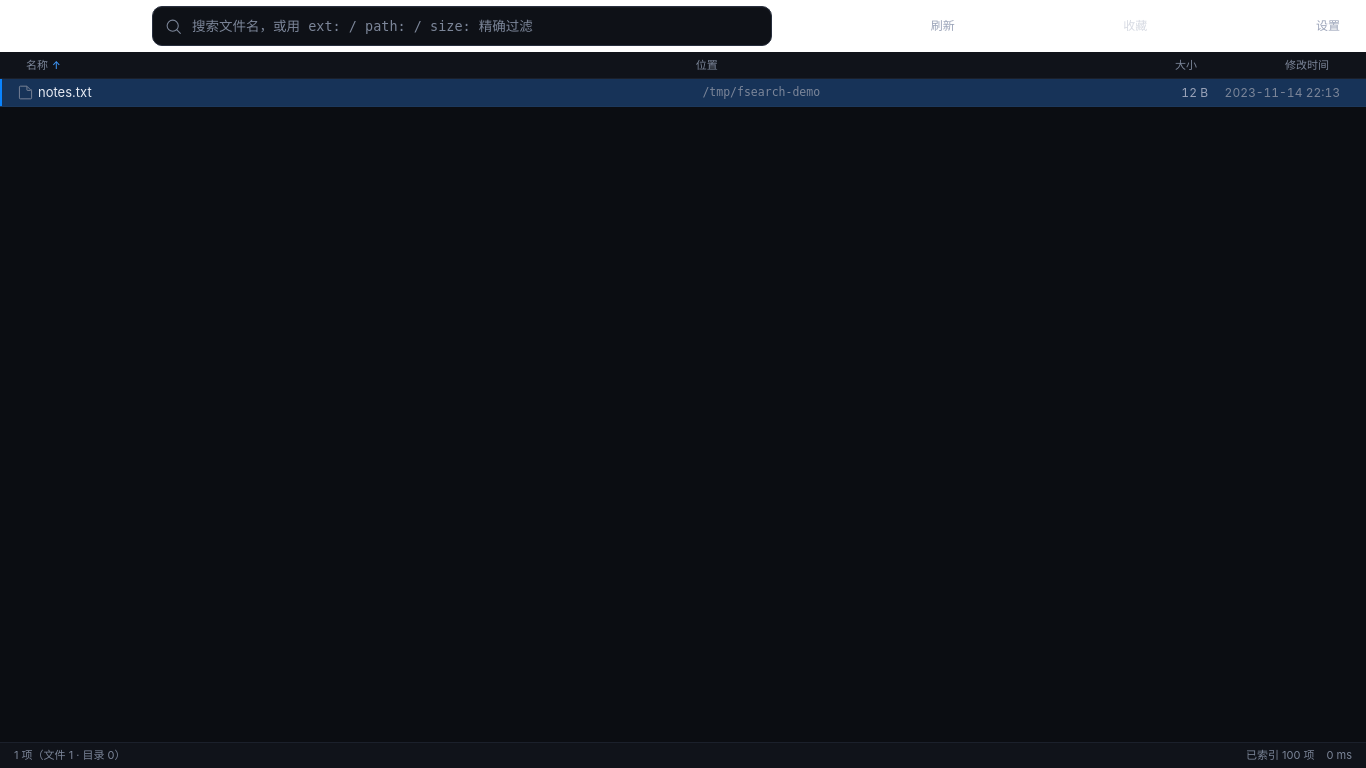
Test: 右键的三种行为 › 结果行右键 → 弹自定义菜单（不是原生菜单）
Right-click the element with class "rt-row": (683,93) [0, 79, 1365, 107]
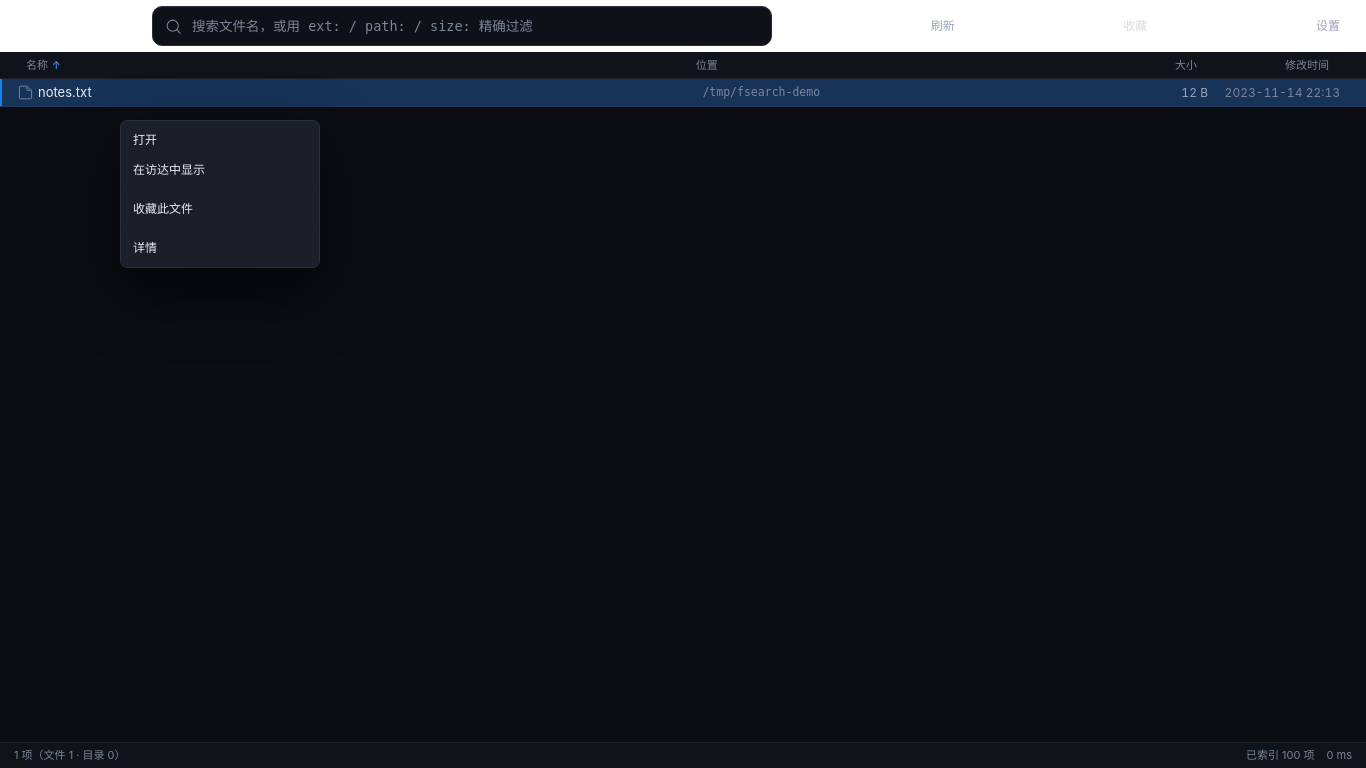
Check: the element with class "ctx-menu" is shown, box [120, 120, 320, 268]
